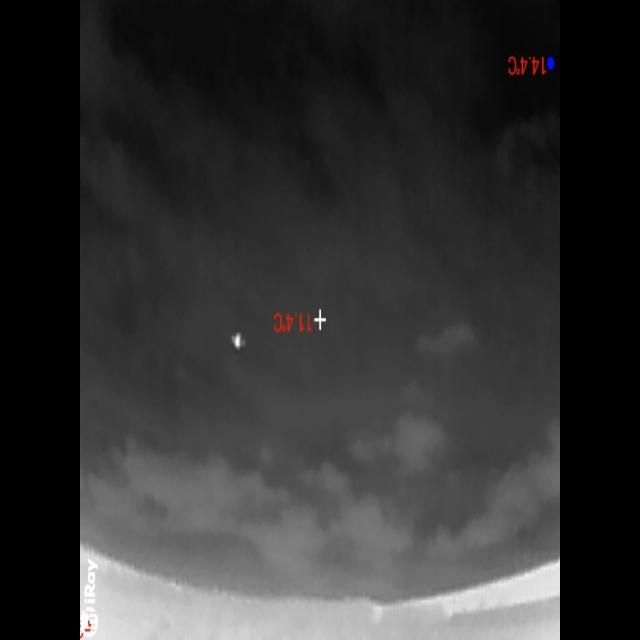drone: (232, 330, 246, 353)
